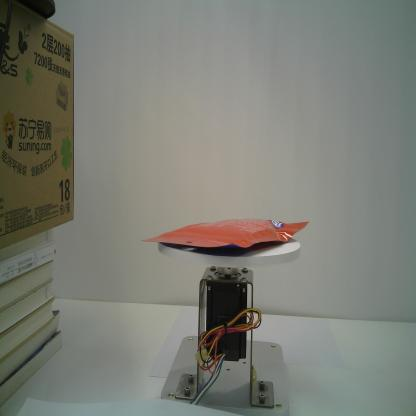Dried Fruit: (140, 218, 310, 254)
